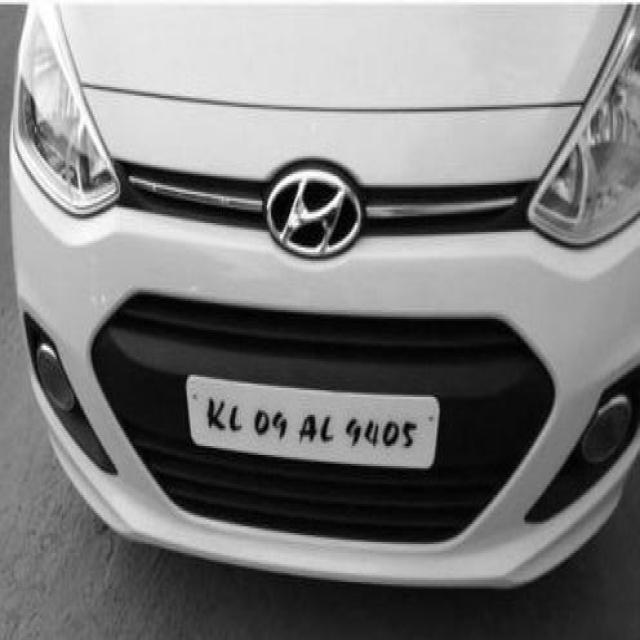license-plate: (188, 382, 440, 479)
